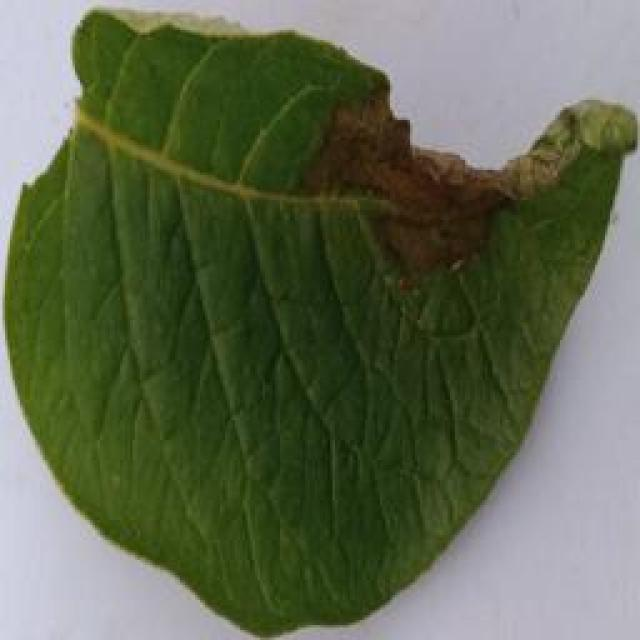Potato_Late_Blight: (11, 11, 631, 634)
